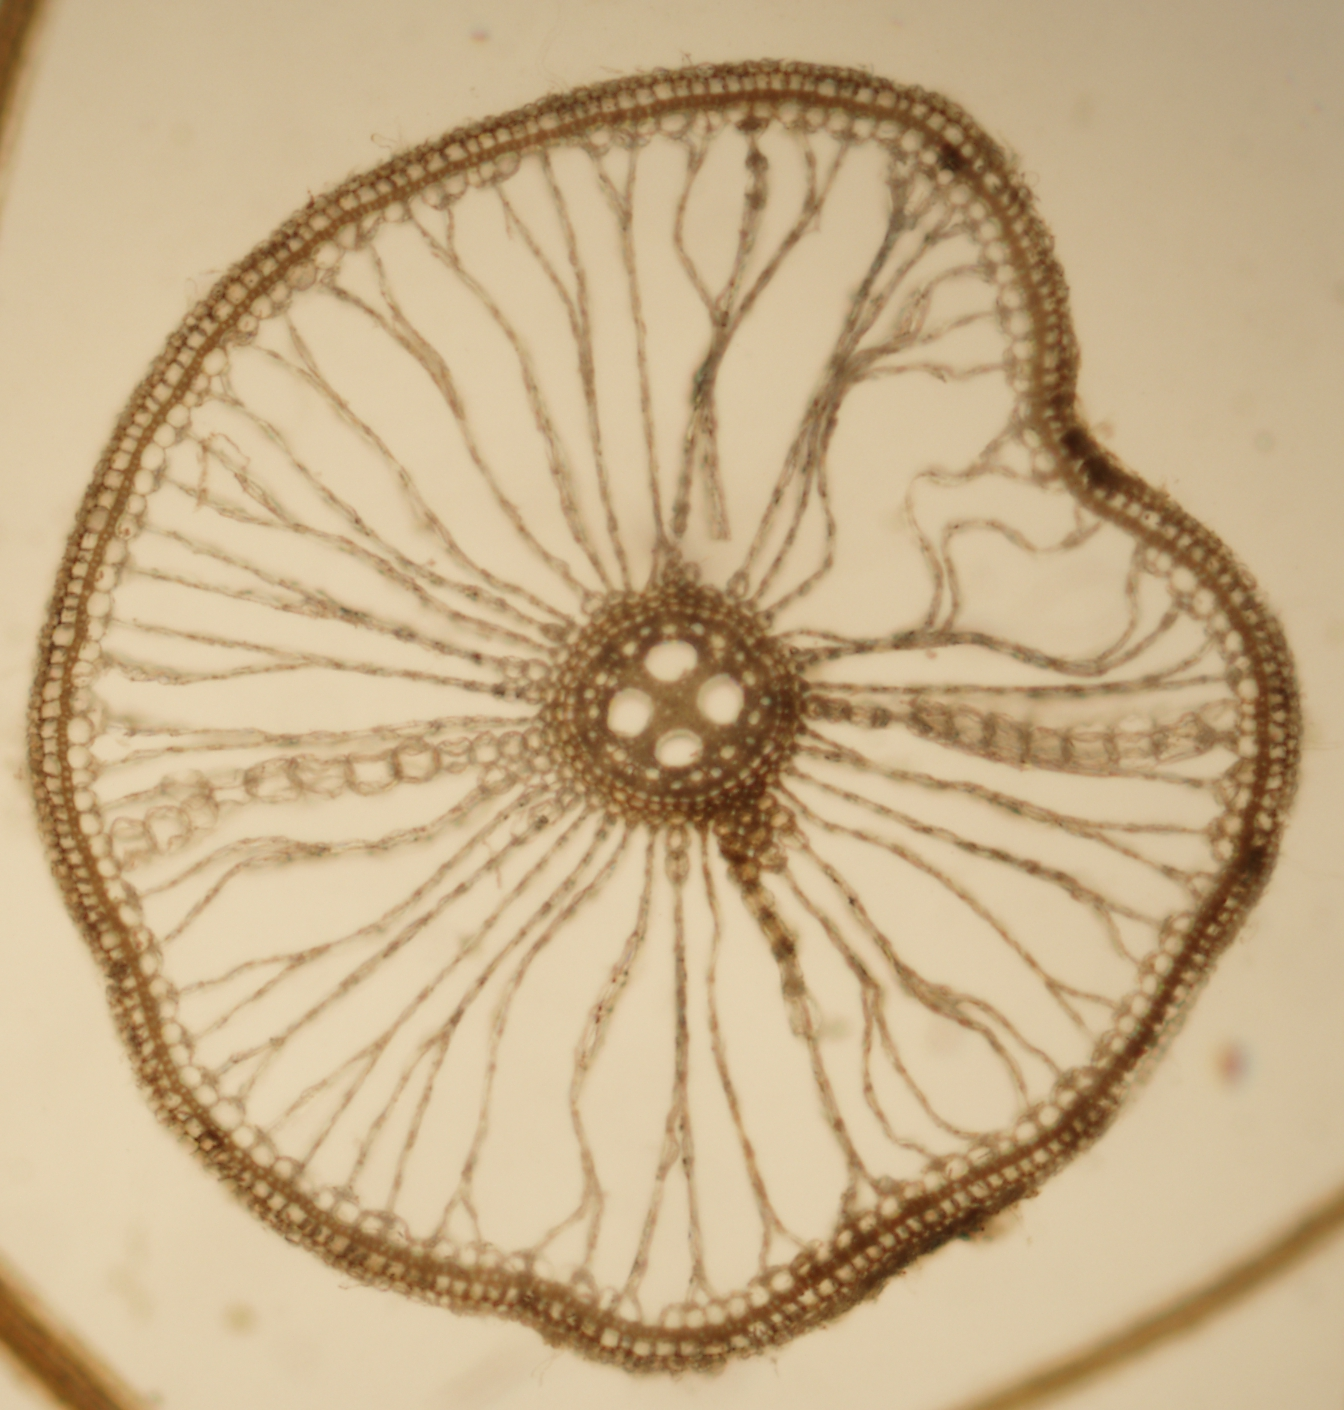lm: (696, 674, 745, 726), (607, 687, 654, 738), (644, 640, 697, 681), (653, 728, 703, 767)
